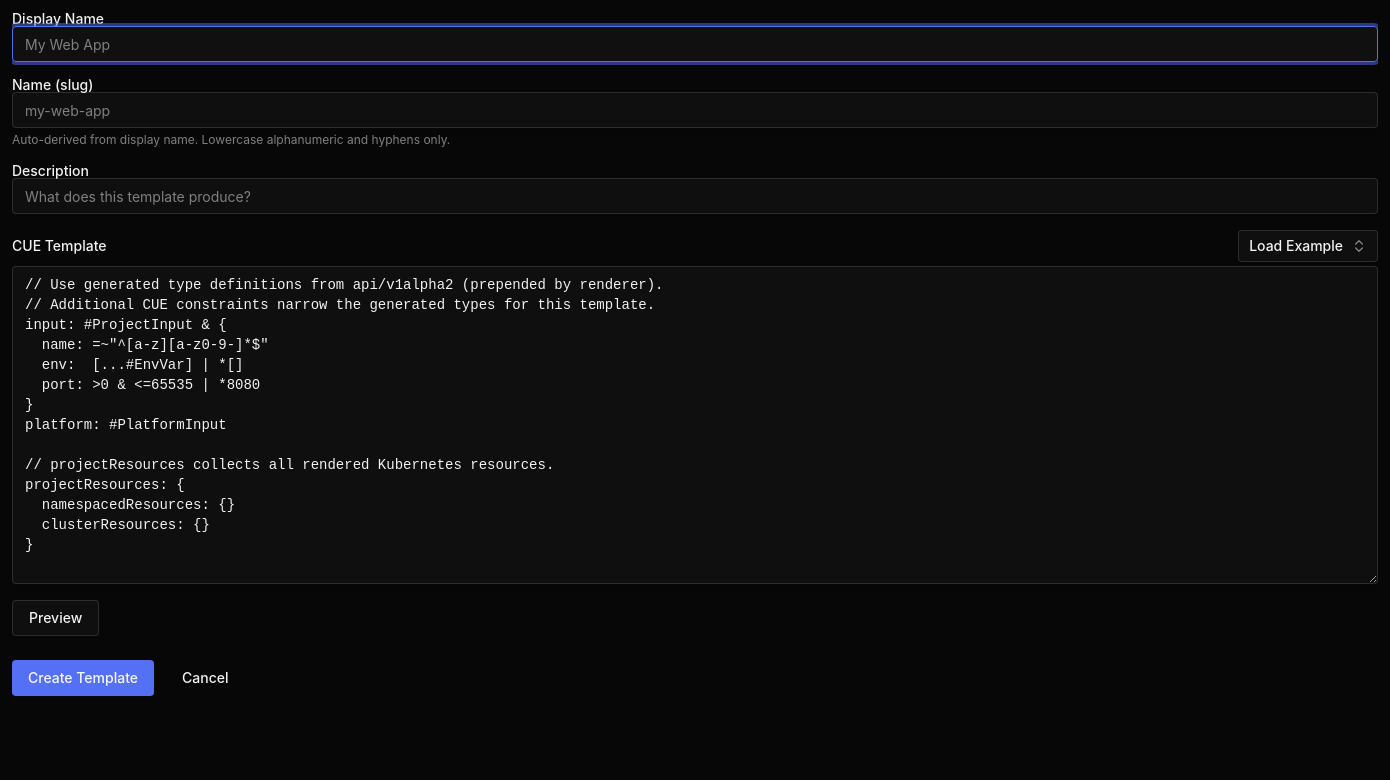
Scenario: TemplateCreateForm — project scope › shows rendered JSON when preview is toggled and data is available
Click the button "Preview". click: (56, 618)
box: [12, 600, 99, 636]
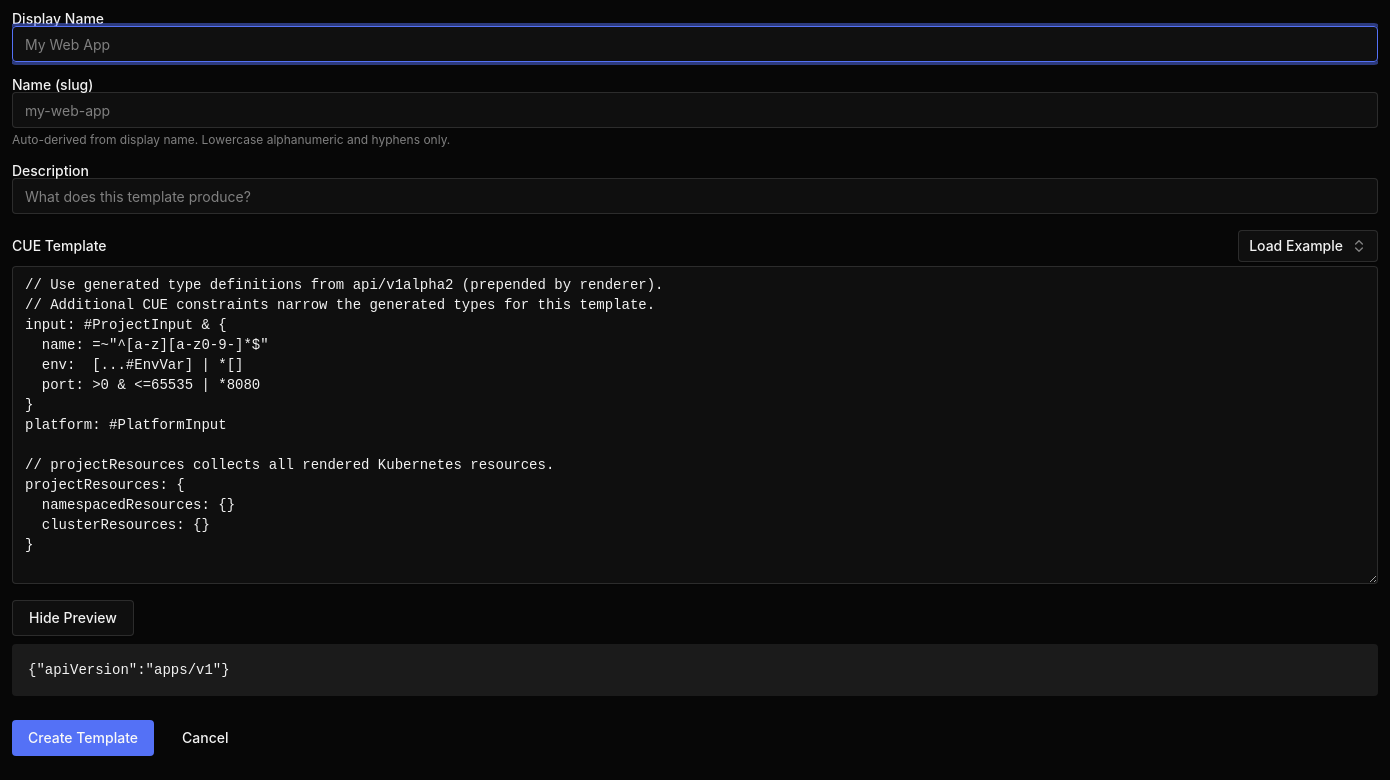
Expected: the text "{\"apiVersion\":\"apps/v1\"}" is shown, [12, 644, 1378, 696]
